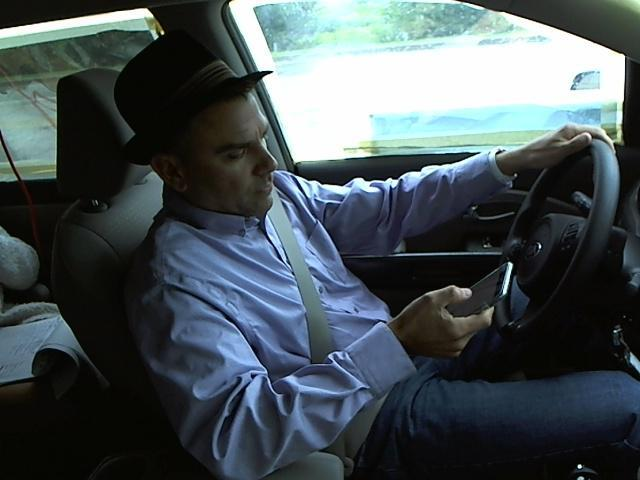PhoneUse: (448, 260, 514, 323)
